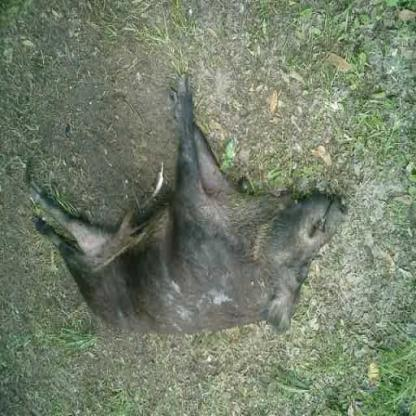boar: (36, 105, 362, 342)
